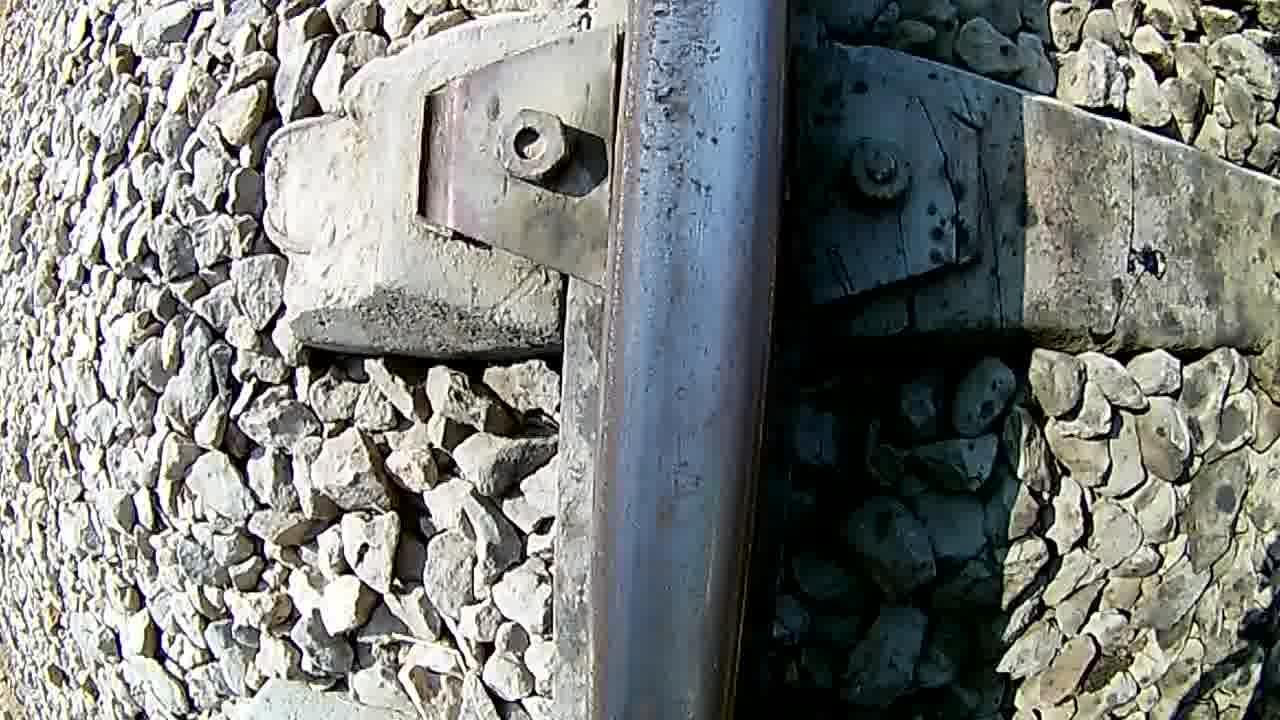crack: (601, 0, 783, 720)
